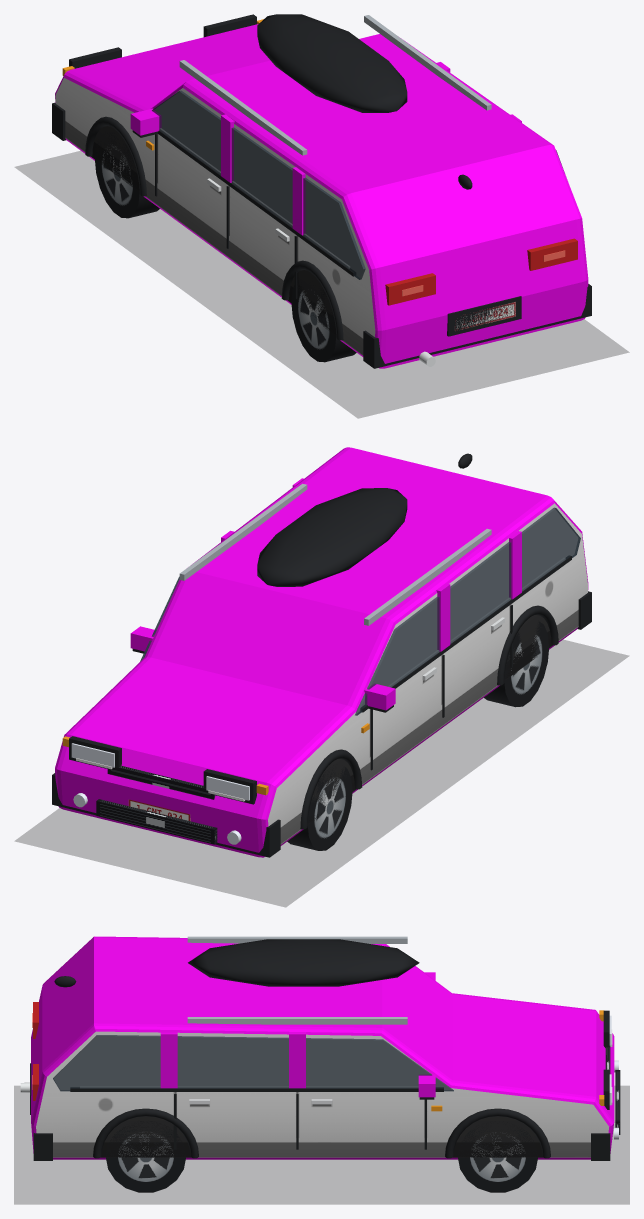
File: car-estate.obj
The picture shows the model from 3 angles, top to bottom: view 1: azimuth 30°, elevation 25°; view 2: azimuth 150°, elevation 25°; view 3: azimuth 270°, elevation 25°; orthographic projection. The views are drawn at different scales.
Visible parts, largest first — view 1: body, shadowpad.nocast, part1.nocast, opt.roofbox, part13, part12, part59.nocast, part40.nocast, part41.nocast, part34, part42.nocast, part43.nocast (+10 smaller); view 2: body, shadowpad.nocast, part1.nocast, opt.roofbox, part12, part13, part54.nocast, part41.nocast, part40.nocast, part16.nocast, part42.nocast, part43.nocast (+7 smaller); view 3: body, shadowpad.nocast, part1.nocast, opt.roofbox, part15, part14, part41.nocast, part11.nocast, part40.nocast, part44.nocast, part45.nocast, part10 (+5 smaller).
Boxes of the visible parts, box(x1,y1,x2,y2) form: body: box(55, 24, 588, 368); shadowpad.nocast: box(15, 151, 629, 418); part1.nocast: box(152, 90, 564, 279); opt.roofbox: box(257, 14, 407, 112); part13: box(291, 280, 356, 362); part12: box(95, 133, 159, 218); part59.nocast: box(447, 296, 521, 336); part40.nocast: box(179, 60, 307, 155); part41.nocast: box(364, 15, 491, 110); part34: box(363, 284, 591, 368); part42.nocast: box(85, 116, 146, 196); part43.nocast: box(281, 260, 343, 340); body: box(55, 447, 588, 857); shadowpad.nocast: box(15, 640, 628, 907); part1.nocast: box(140, 507, 580, 715); opt.roofbox: box(257, 488, 407, 586); part12: box(287, 765, 352, 850); part13: box(484, 620, 549, 707); part54.nocast: box(96, 799, 217, 844); part41.nocast: box(179, 483, 307, 580); part40.nocast: box(364, 528, 491, 625); part16.nocast: box(107, 765, 215, 799); part42.nocast: box(300, 749, 362, 829); part43.nocast: box(497, 605, 558, 685); body: box(31, 936, 614, 1159); shadowpad.nocast: box(14, 1086, 629, 1204); part1.nocast: box(53, 1035, 453, 1091); opt.roofbox: box(188, 939, 419, 986); part15: box(106, 1121, 185, 1192); part14: box(458, 1121, 537, 1192); part41.nocast: box(187, 1017, 407, 1024); part11.nocast: box(70, 1087, 443, 1091); part40.nocast: box(187, 936, 407, 943); part44.nocast: box(445, 1108, 550, 1158); part45.nocast: box(93, 1108, 198, 1158); part10: box(160, 1032, 177, 1088).
Size of the model in its own units: 2.3 by 1.79 by 5.04.
